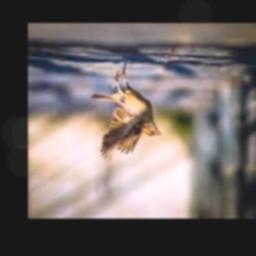Sparrow: (92, 60, 162, 161)
